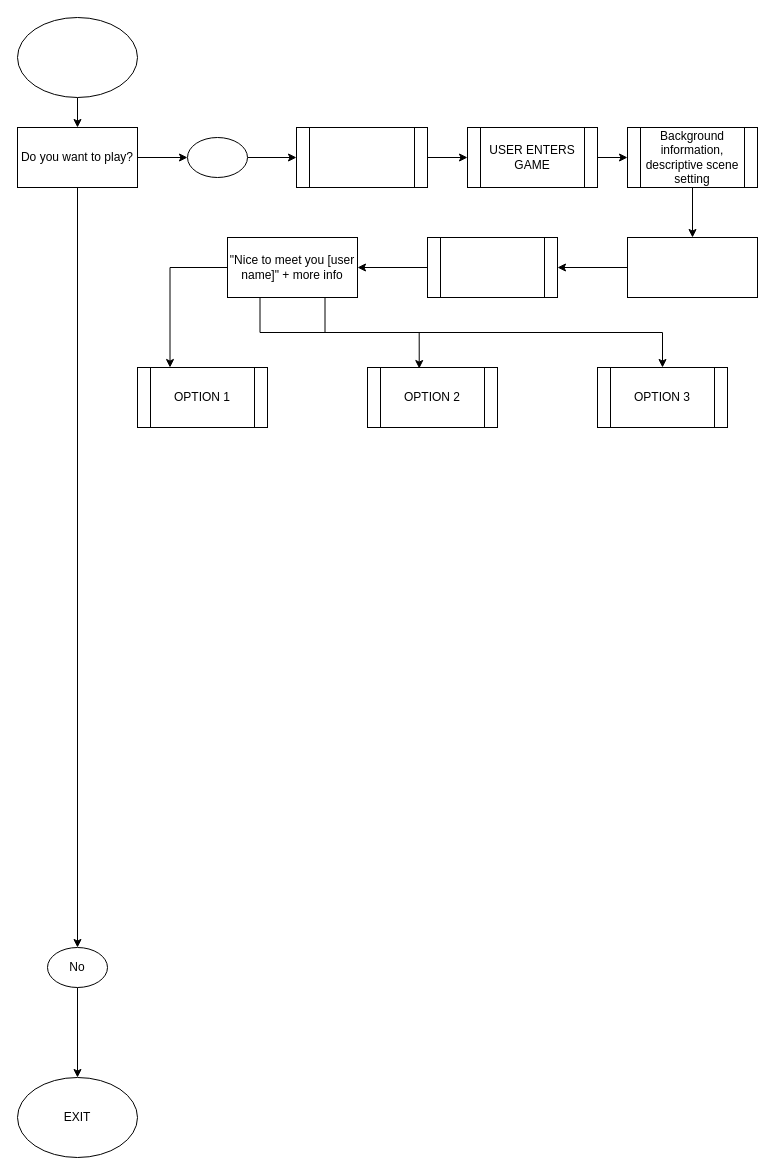
This 775x1175 diagram has some shape labels left out. Here are the shapes that lost their labels. From the top down, the box of each, then its label:
(16, 16, 138, 98): START
(186, 136, 248, 178): Yes
(296, 126, 428, 188): INTRODUCTION WITH TEXT ART
(426, 236, 558, 298): INPUT USER NAME - INTO VARIABLE
(626, 236, 758, 298): "Hello, what is your name?"
